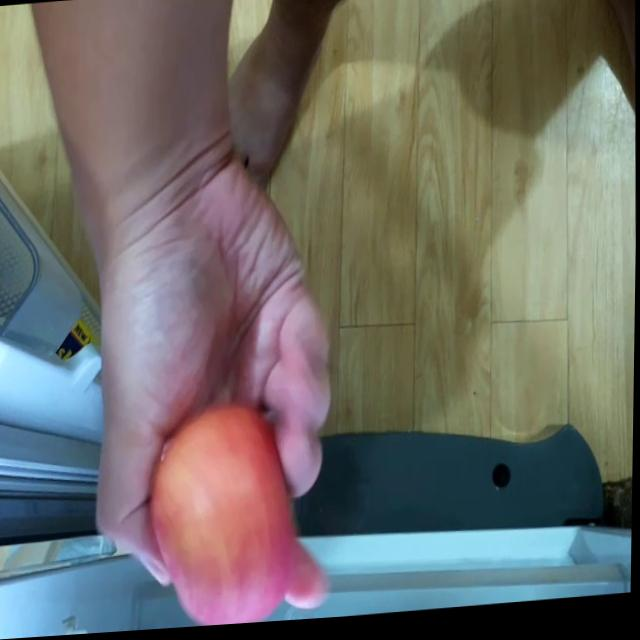apple: (146, 402, 291, 632)
